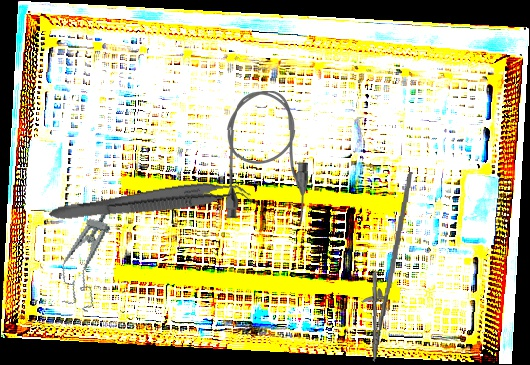Cannula: (223, 90, 310, 227)
Needle Holder: (356, 168, 414, 364)
Speculum: (50, 190, 126, 314)
Tissue Forceps: (48, 174, 253, 233)
